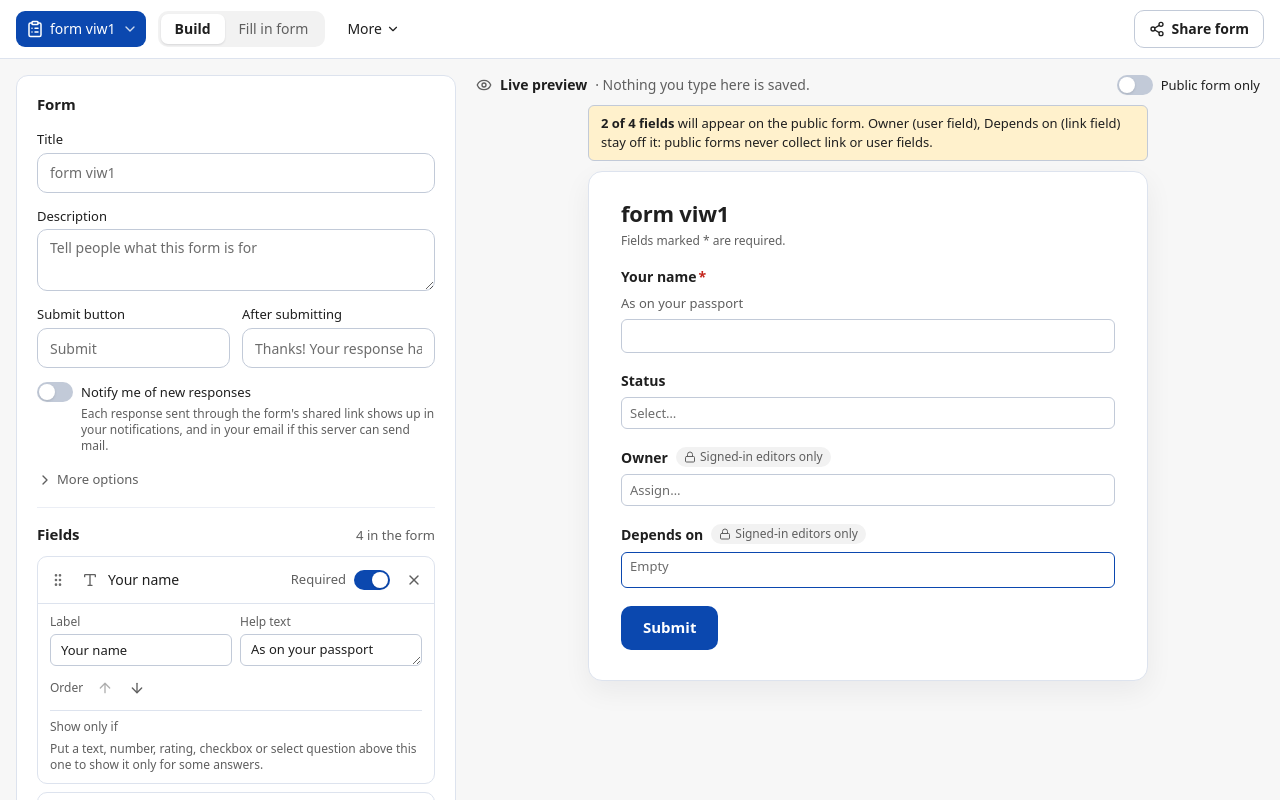
Test: the builder › says which fields stay off the public form and can preview it without them
Expected: the heading "Form" is shown, left=37, top=94, right=76, bottom=114
Expected: the text "2 of 4 fields" is shown, left=601, top=114, right=674, bottom=132
Step 1. Click the switch named "Public form only" next to "Public form only" → (1135, 85), box left=1117, top=75, right=1153, bottom=95
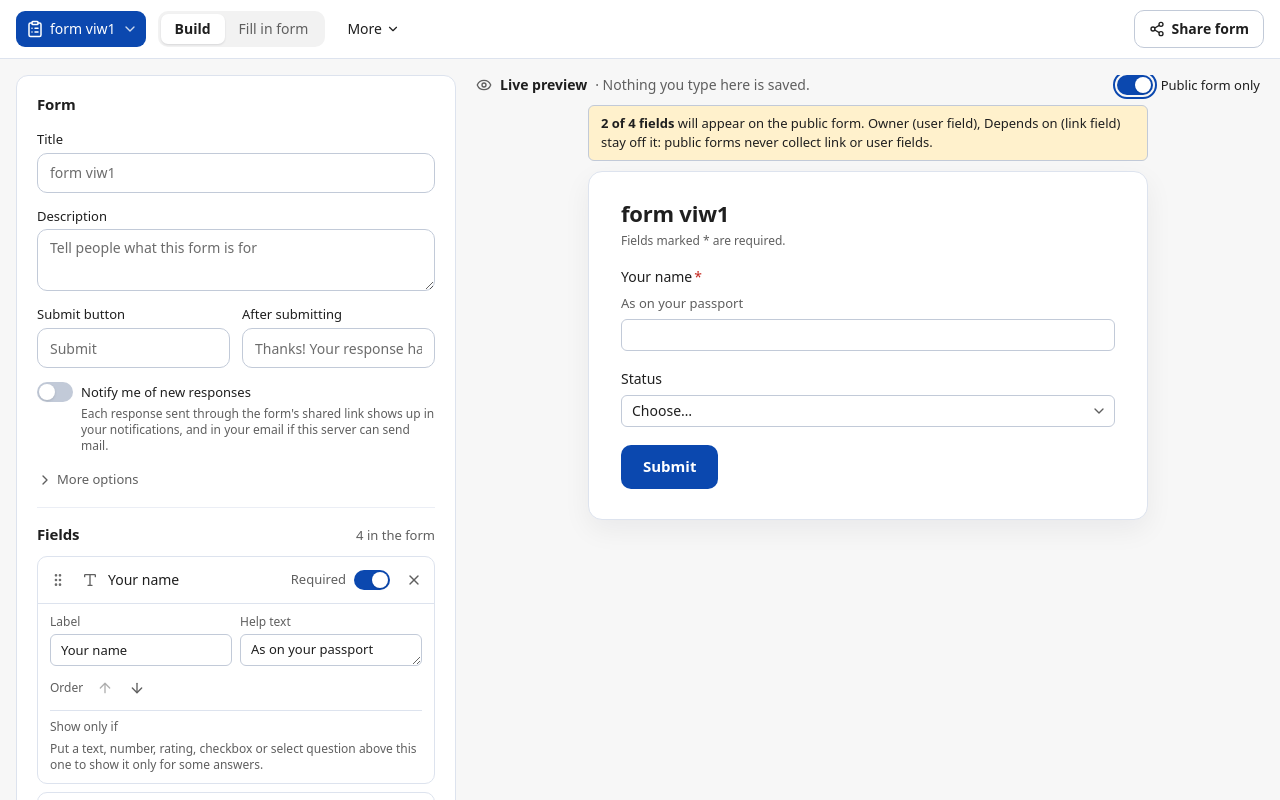
Expected: the text "Status" is shown, left=621, top=369, right=662, bottom=388
Result: the text "Signed-in editors only" is gone
